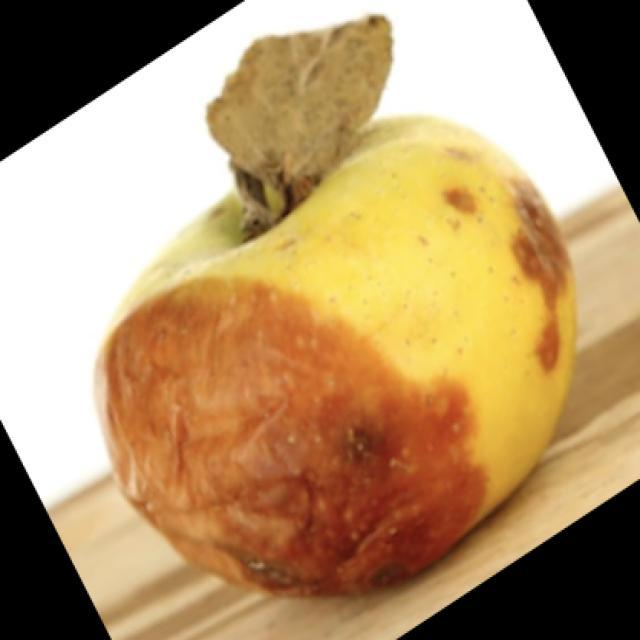Rotten: (96, 105, 562, 602)
